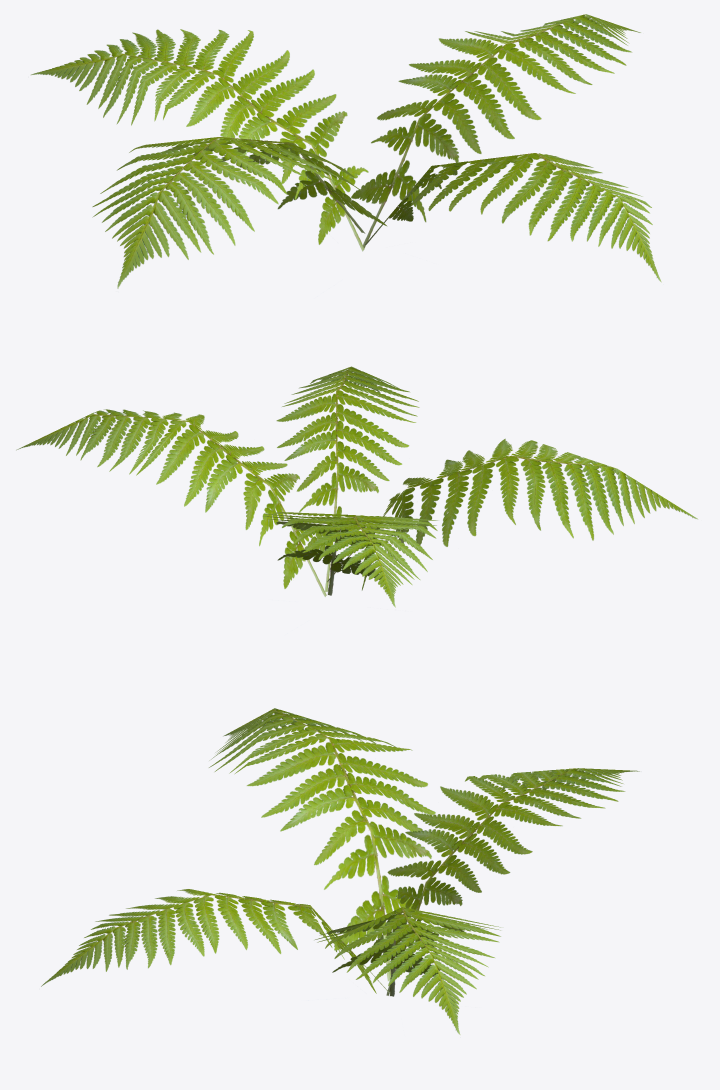
The model's file is fern_02.glb.
The picture shows the model from 3 angles, top to bottom: view 1: azimuth 30°, elevation 25°; view 2: azimuth 150°, elevation 25°; view 3: azimuth 270°, elevation 25°; orthographic projection. The views are drawn at different scales.
Visible parts, largest first — view 1: ferns 2; view 2: ferns 2; view 3: ferns 2.
Boxes of the visible parts, x1,y1,x2,y2 form: ferns 2: (31, 14, 661, 288); ferns 2: (16, 366, 697, 607); ferns 2: (41, 708, 639, 1034).
Bounding box in the file's own units: 0.6586 × 0.1926 × 0.5674.
1 material, 1 textured.
